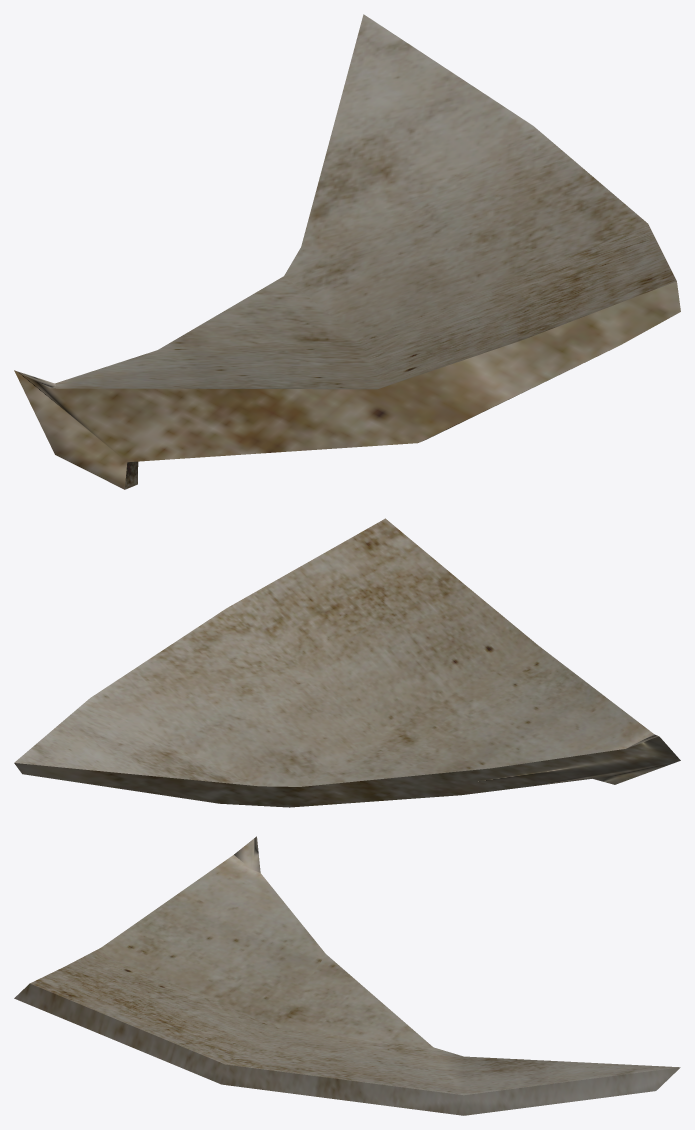
Rendered from PlateDeepShardC.fbx.
3 renders of one model, top to bottom at view 1: azimuth 30°, elevation 25°; view 2: azimuth 150°, elevation 25°; view 3: azimuth 270°, elevation 25°, orthographic. The views are drawn at different scales.
Parts seen in each view (by area): view 1: Default_Layer; view 2: Default_Layer; view 3: Default_Layer.
Part boxes in pixels (x1,y1,x2,y2): Default_Layer: (14,14,680,489); Default_Layer: (14,518,680,807); Default_Layer: (14,836,680,1115).
Bounding box in the file's own units: 31.14 × 8.97 × 34.93.
